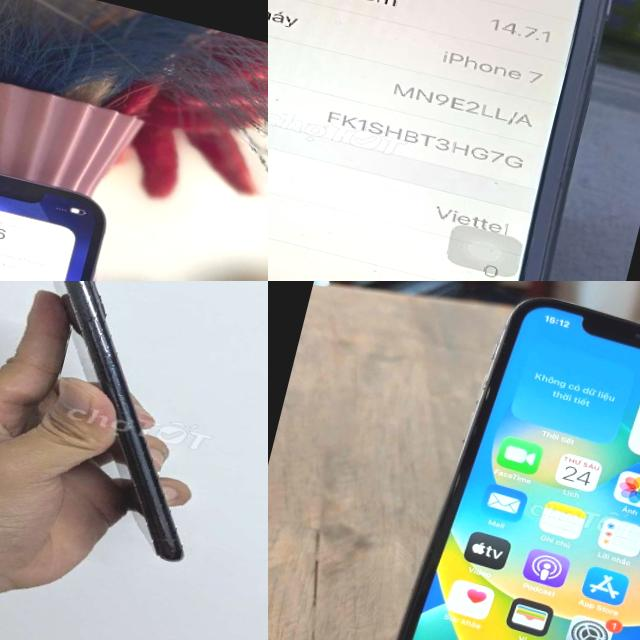gen_11: (53, 281, 182, 560)
gen_12_13: (0, 124, 130, 281)
gen_7_8: (268, 0, 640, 281)
gen_x_xs: (358, 281, 640, 640)
